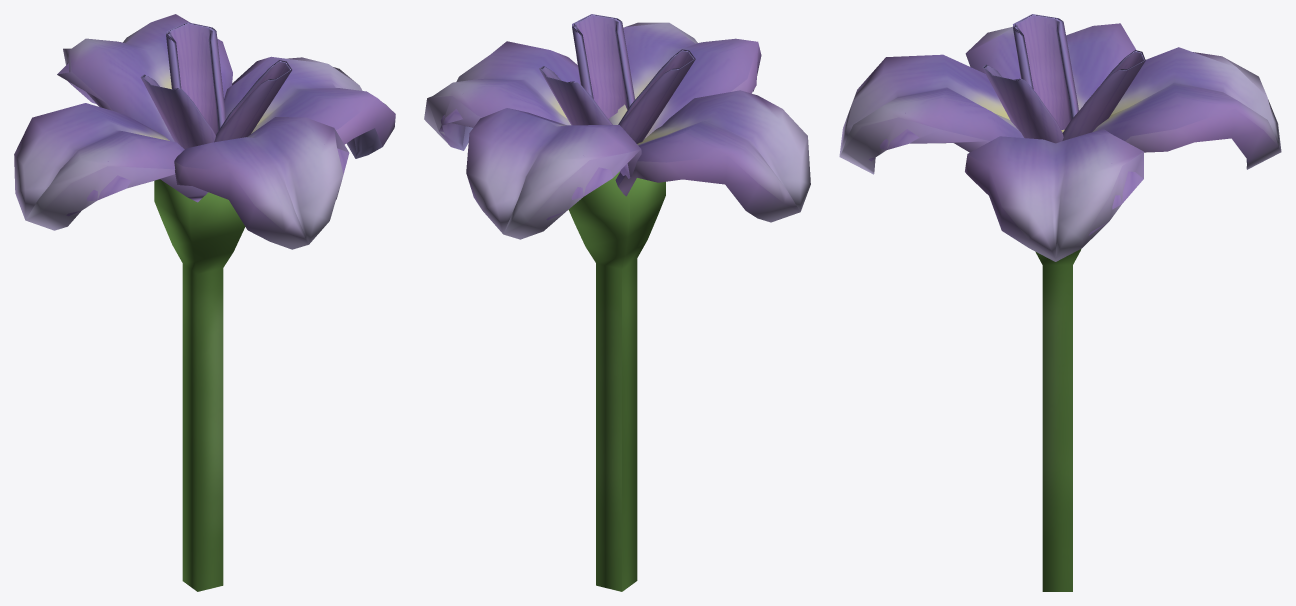
The model's file is BgMD_iris_flower.fbx.
3 renders of one model, left to right at view 1: azimuth 30°, elevation 25°; view 2: azimuth 150°, elevation 25°; view 3: azimuth 270°, elevation 25°, orthographic. The views are drawn at different scales.
Parts seen in each view (by area): view 1: BgMD_iris_flower; view 2: BgMD_iris_flower; view 3: BgMD_iris_flower.
Boxes of the visible parts, bbox=[...] form: BgMD_iris_flower: bbox=[14, 14, 395, 591]; BgMD_iris_flower: bbox=[424, 14, 810, 591]; BgMD_iris_flower: bbox=[839, 14, 1281, 591].
Bounding box in the file's own units: 13.71 × 19.04 × 14.17.
1 material, 1 textured.
